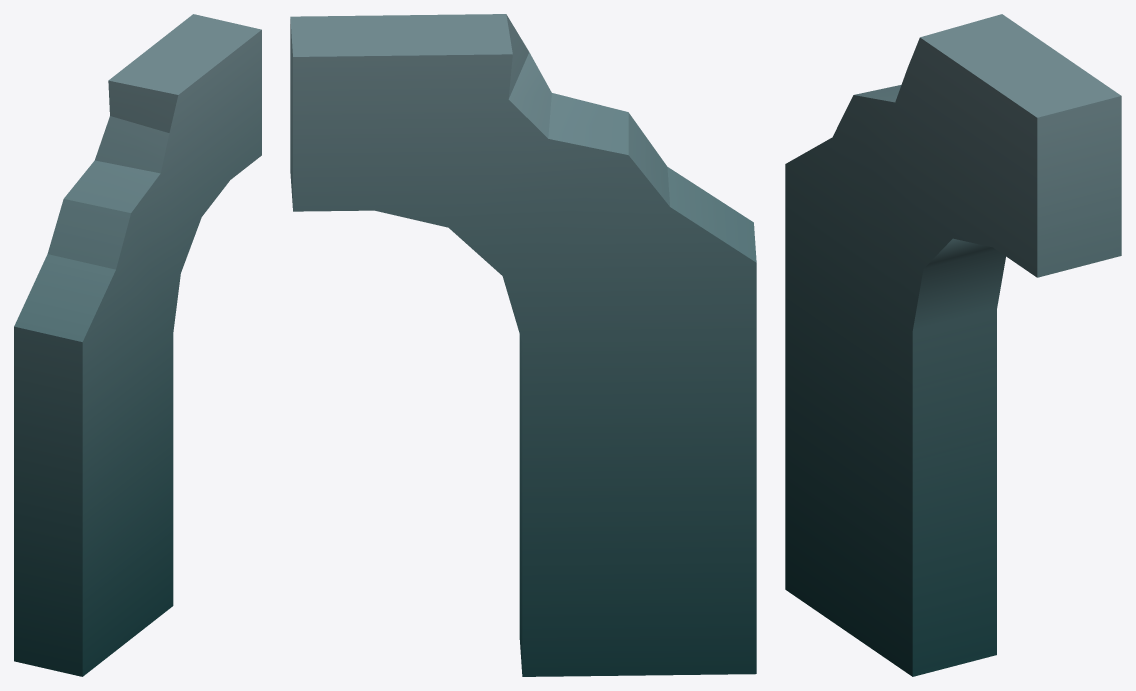
The picture shows the model from 3 angles, left to right: view 1: azimuth 30°, elevation 25°; view 2: azimuth 150°, elevation 25°; view 3: azimuth 270°, elevation 25°; orthographic projection. The views are drawn at different scales.
Visible parts, largest first — view 1: Cube.050; view 2: Cube.050; view 3: Cube.050.
Boxes of the visible parts, left/top/right/bottom form: Cube.050: left=14, top=14, right=261, bottom=676; Cube.050: left=290, top=14, right=756, bottom=676; Cube.050: left=785, top=14, right=1121, bottom=676.
Size of the model in its own units: 9.3 by 14.37 by 6.79.
